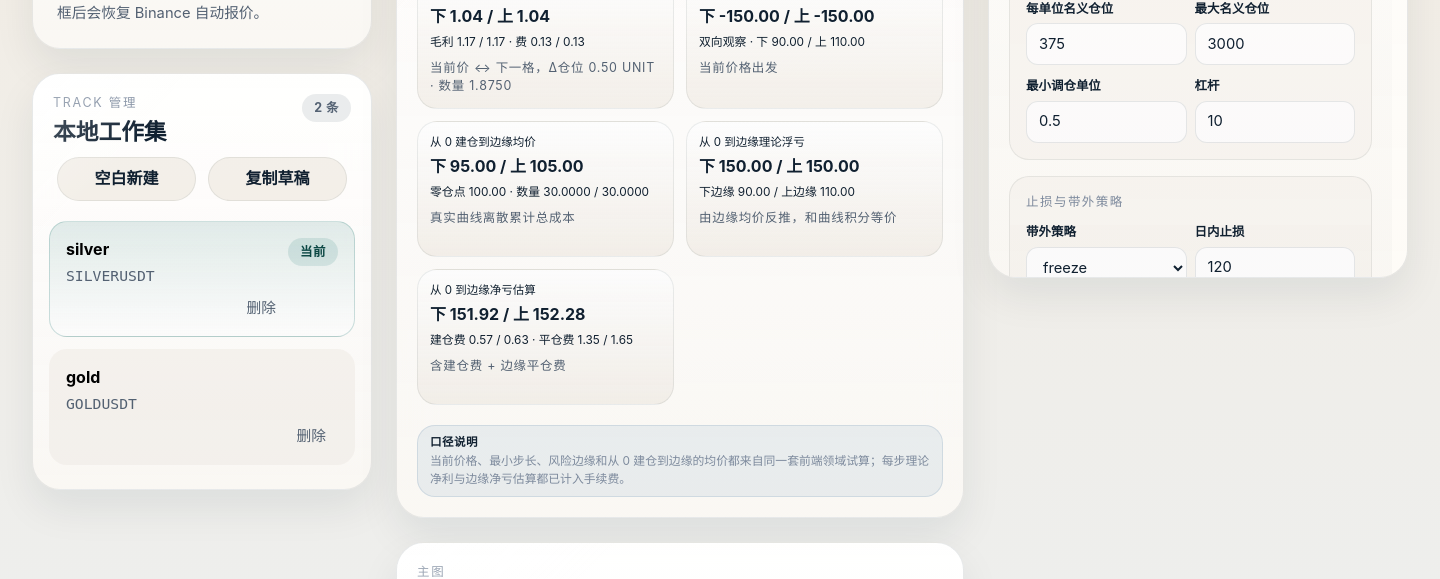
Test: AppShell › shows an undo notice after deleting a track
The width and height of the screenshot is (1440, 579).
(page scrolled)
Click the button with aria-label "删除 Track silver" at coordinates (261, 309), box [247,298,276,320]
(page scrolled)
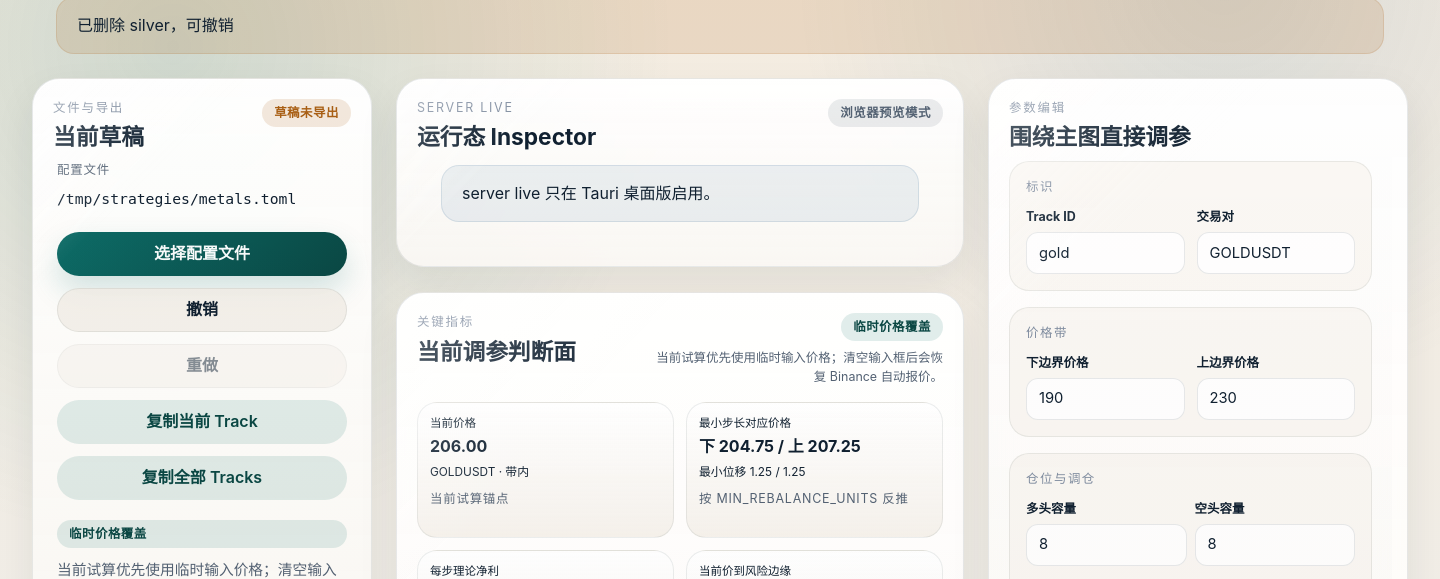
Expected: the text "已删除 silver，可撤销" is shown, [77,15,234,35]
Expected: the button "撤销" is enabled, [57,288,347,332]
